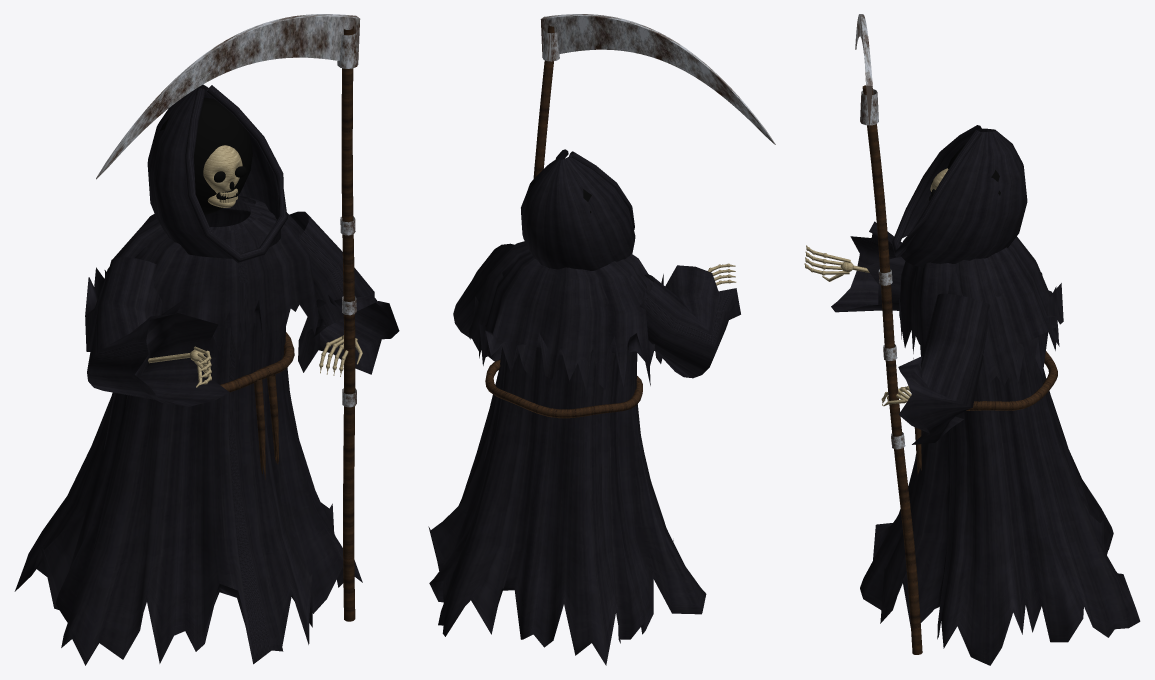
File: smierc.glb
3 renders of one model, left to right at view 1: azimuth 30°, elevation 25°; view 2: azimuth 150°, elevation 25°; view 3: azimuth 270°, elevation 25°, orthographic. The views are drawn at different scales.
Visible parts, largest first — view 1: smierc_bryla; view 2: smierc_bryla; view 3: smierc_bryla.
Part boxes in pixels (x1,y1,x2,y2): smierc_bryla: (14,14,399,665); smierc_bryla: (428,14,775,665); smierc_bryla: (804,14,1140,665).
Size of the model in its own units: 2.49 by 4.68 by 2.48.
Materials: 5 (5 with a texture image).
